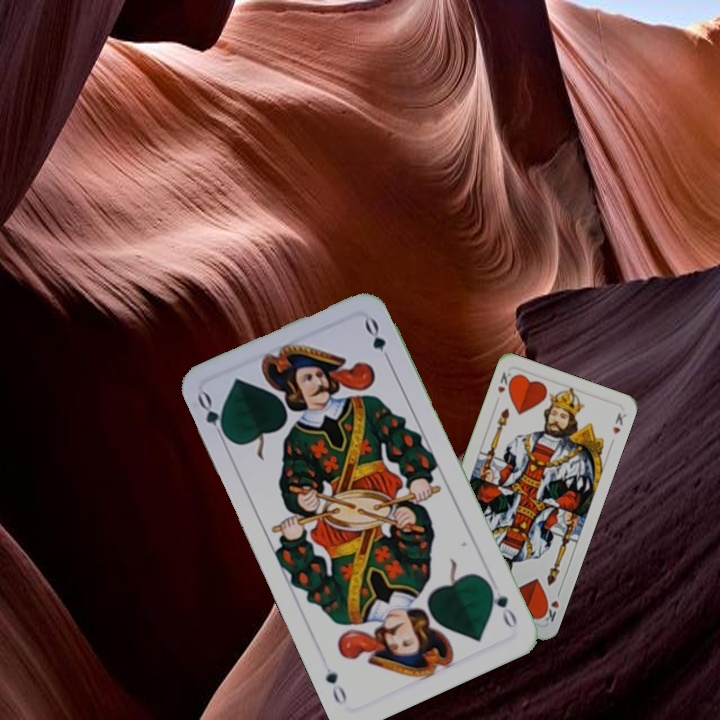GO: (193, 388, 232, 445), (483, 578, 520, 630)
HK: (537, 595, 562, 624), (493, 368, 517, 396)
